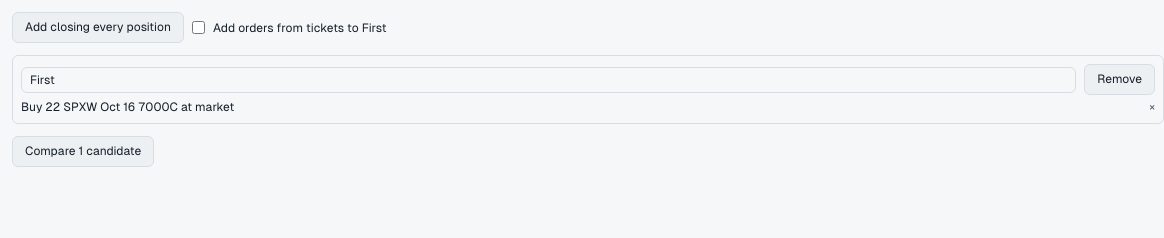
Test: what-if › adds a ticket's orders to a picked candidate, up to four
Click the checkbox labelled "Add orders from tickets to First" at point(198, 28), box [192,21,205,34]
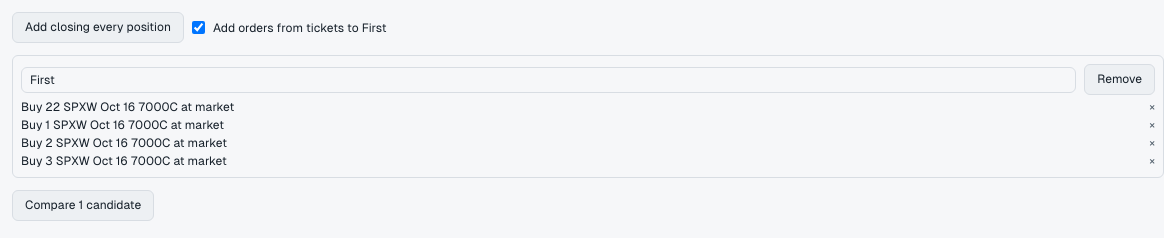
Click the button "Remove" at point(1120, 80), box [1084,64,1155,95]
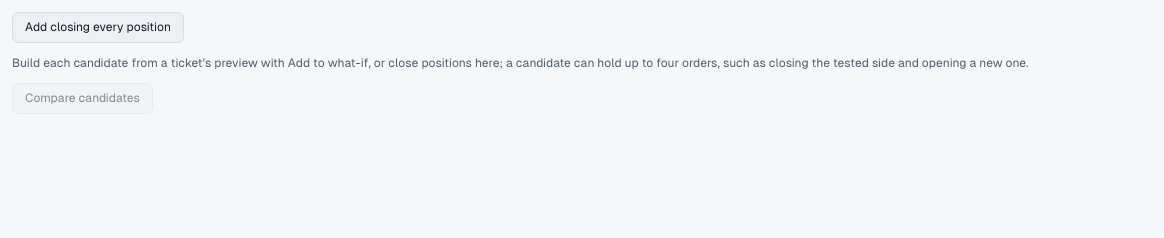
Result: no list items are shown
